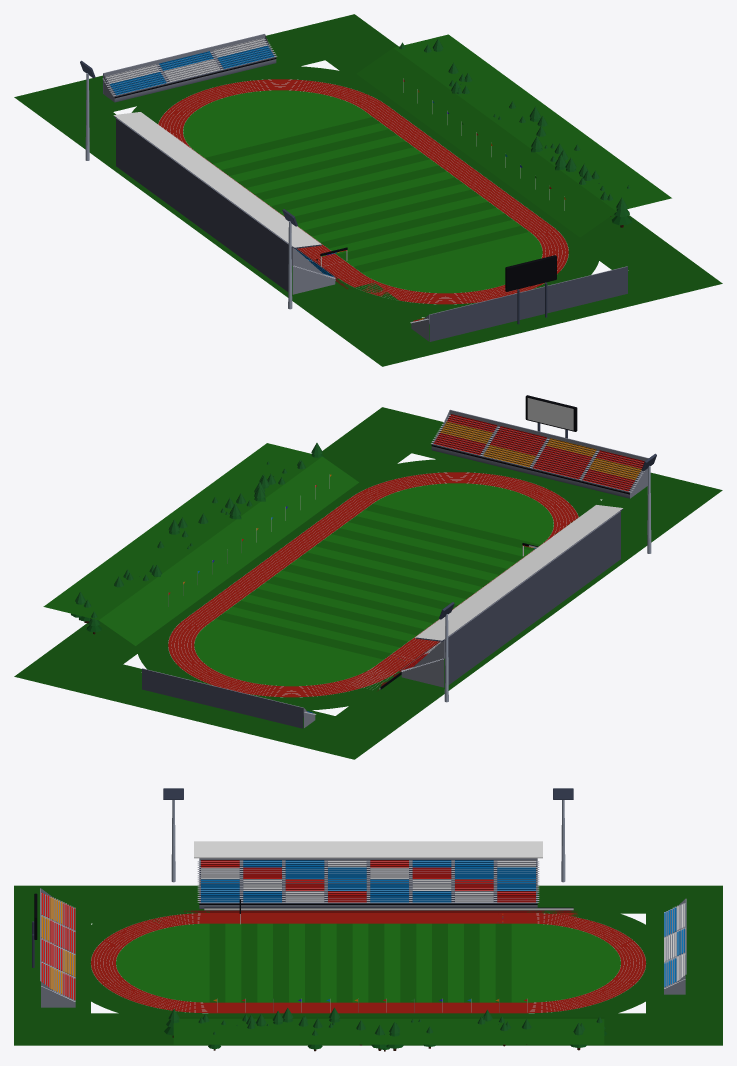
Rendered from Track.fbx.
3 renders of one model, top to bottom at view 1: azimuth 30°, elevation 25°; view 2: azimuth 150°, elevation 25°; view 3: azimuth 270°, elevation 25°, orthographic. The views are drawn at different scales.
Parts seen in each view (by area): view 1: Ground, Structure, Seats, Lines; view 2: Ground, Structure, Seats, Lines, Screen; view 3: Ground, Structure, Seats, Lines, Boards.
Part boxes in pixels (<box>): Ground: <box>14,14,722,366</box>; Structure: <box>80,34,631,341</box>; Seats: <box>105,38,424,321</box>; Lines: <box>158,79,568,304</box>; Ground: <box>14,407,722,759</box>; Structure: <box>71,395,656,728</box>; Seats: <box>307,414,644,713</box>; Lines: <box>168,472,578,697</box>; Screen: <box>527,398,573,430</box>; Ground: <box>14,885,722,1045</box>; Structure: <box>32,788,686,1051</box>; Seats: <box>41,860,684,1000</box>; Lines: <box>91,913,645,1013</box>; Boards: <box>204,908,573,910</box>.
Size of the model in its own units: 167 by 39.73 by 277.
